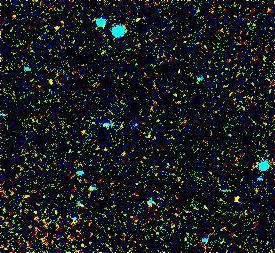star: (221, 187, 251, 217)
